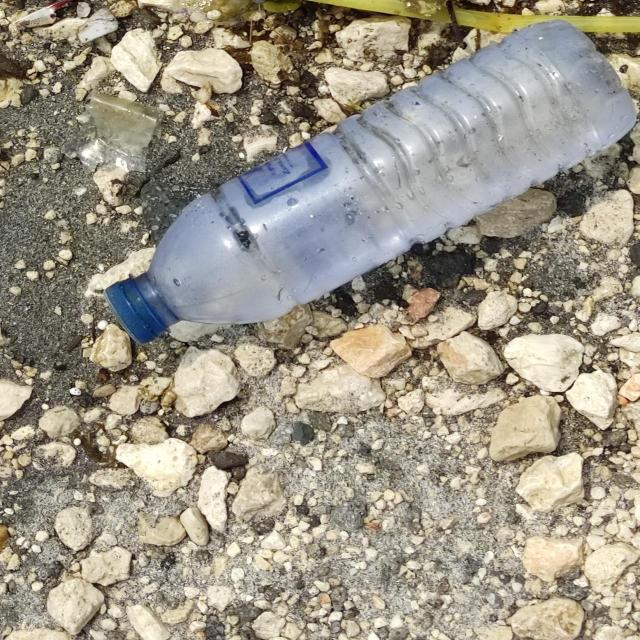plastic_waste: (101, 22, 640, 347)
